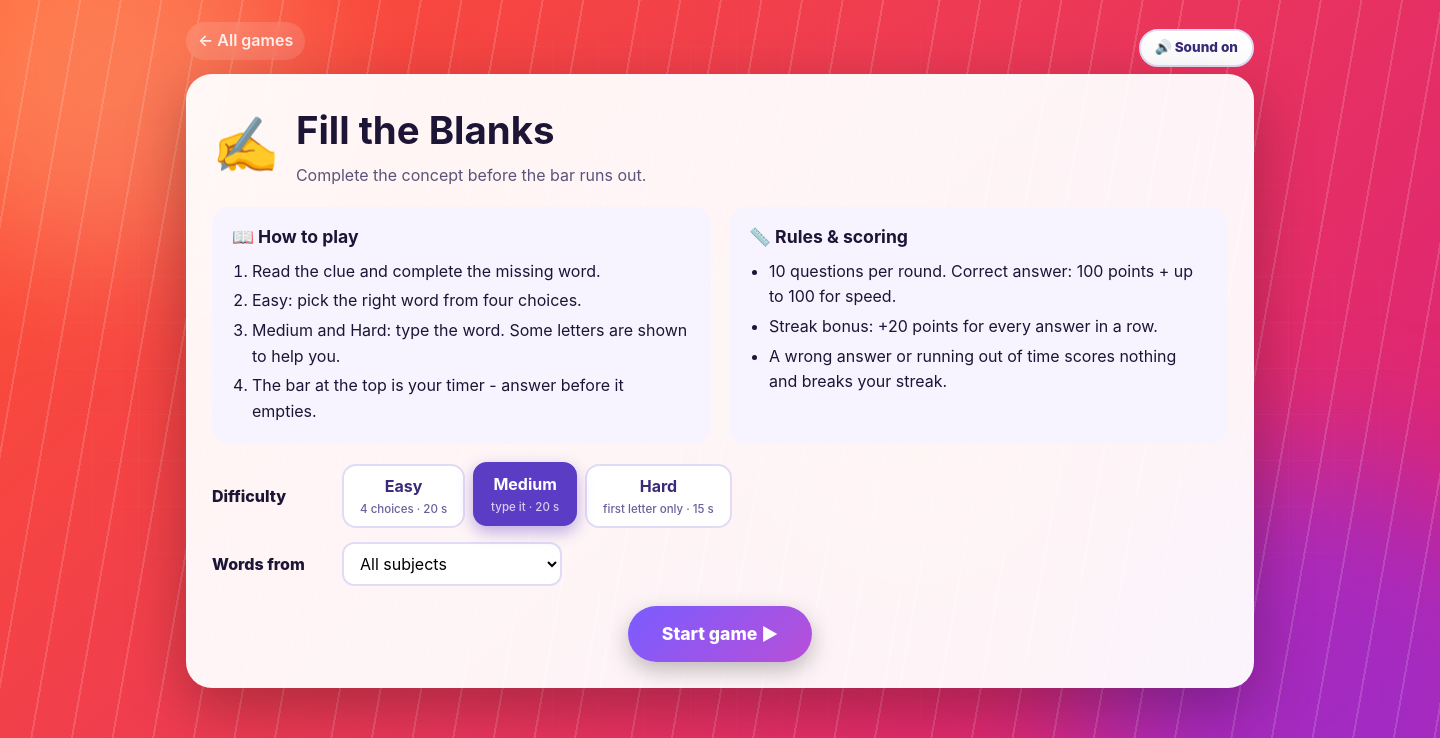
games › fill the blanks (easy): the right choice is accepted, a wrong one is not
The width and height of the screenshot is (1440, 738).
Click the radio button labelled "Easy 4 choices · 20 s" at (404, 496), box x1=342 y1=464 x2=465 y2=528
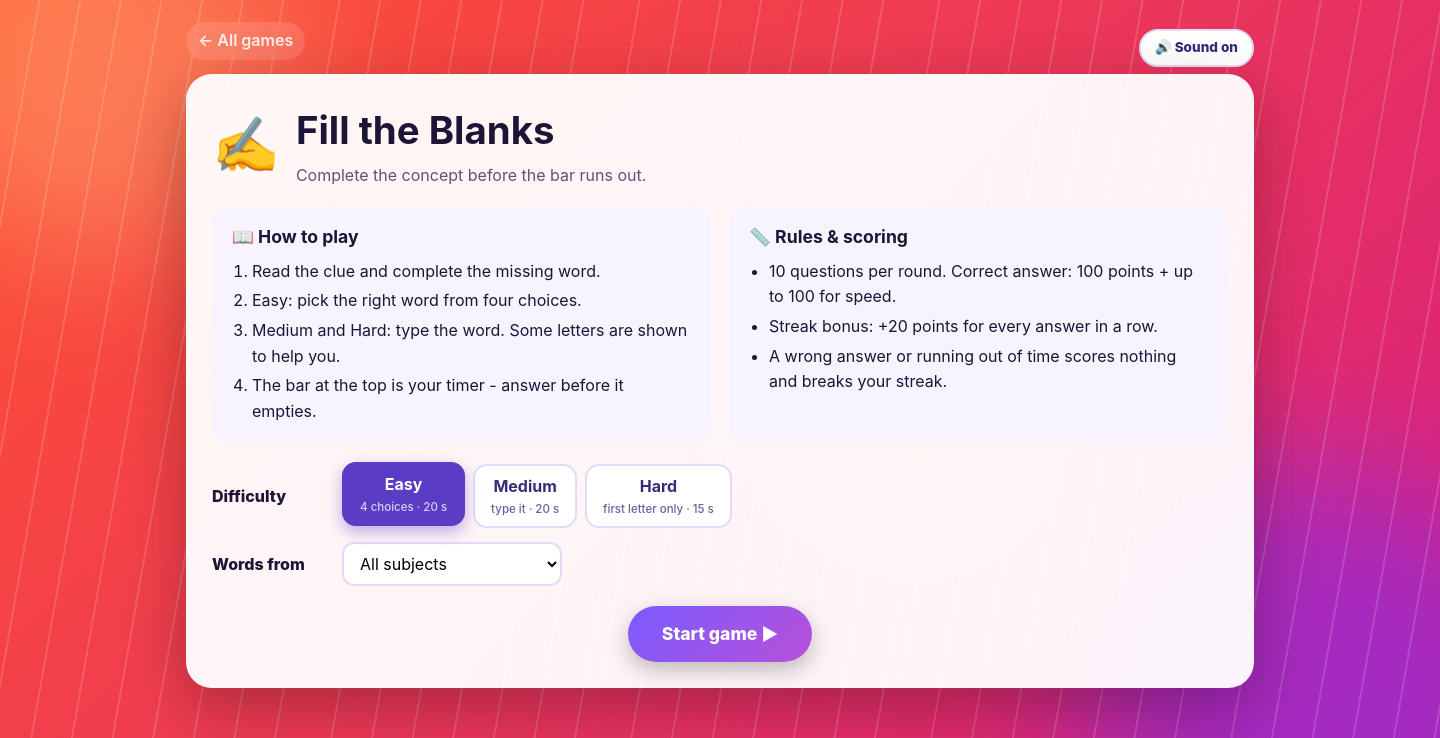
Click the button "Start game ▶" at (720, 634), box x1=628 y1=606 x2=812 y2=662
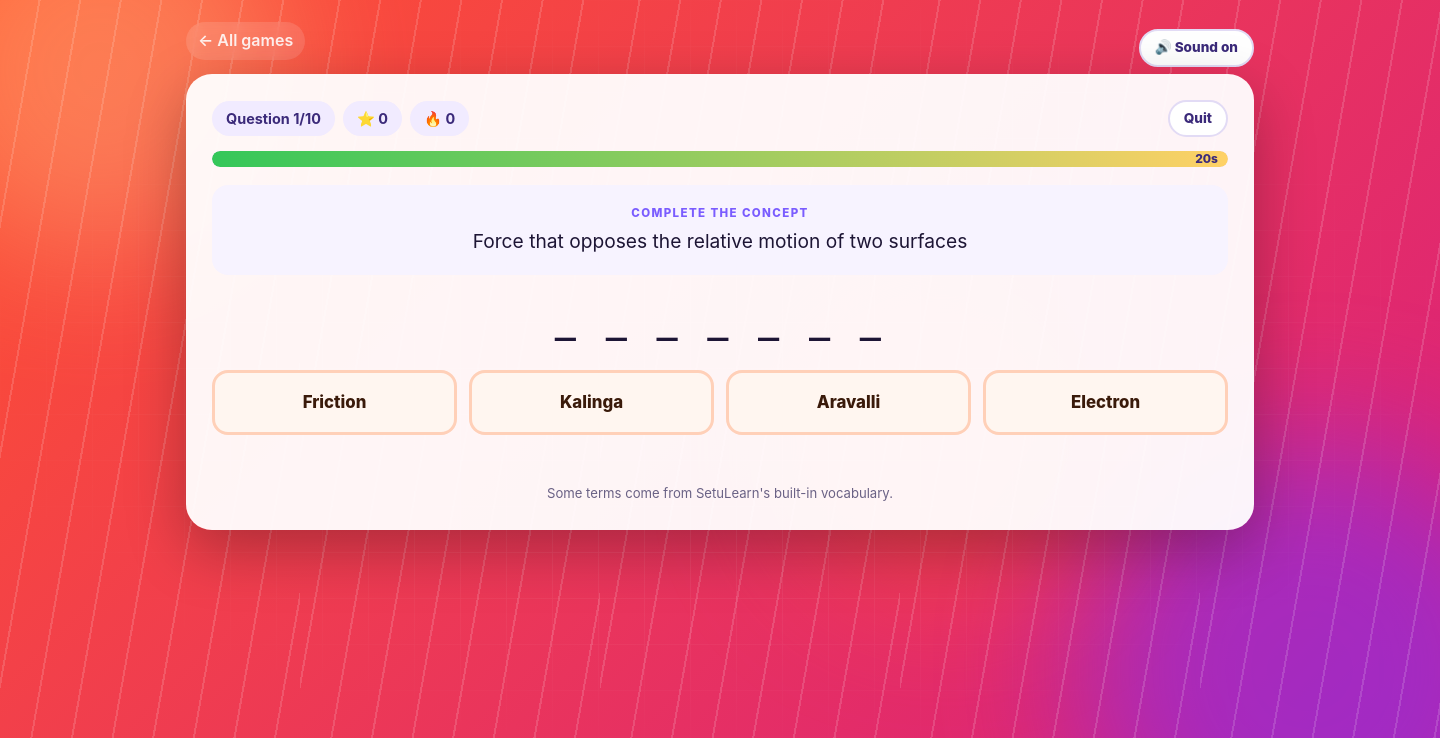
Now the element that starts with "Complete the concept" is shown, box x1=212 y1=185 x2=1228 y2=275
Click the button "Friction" at (334, 402), box x1=212 y1=370 x2=457 y2=435
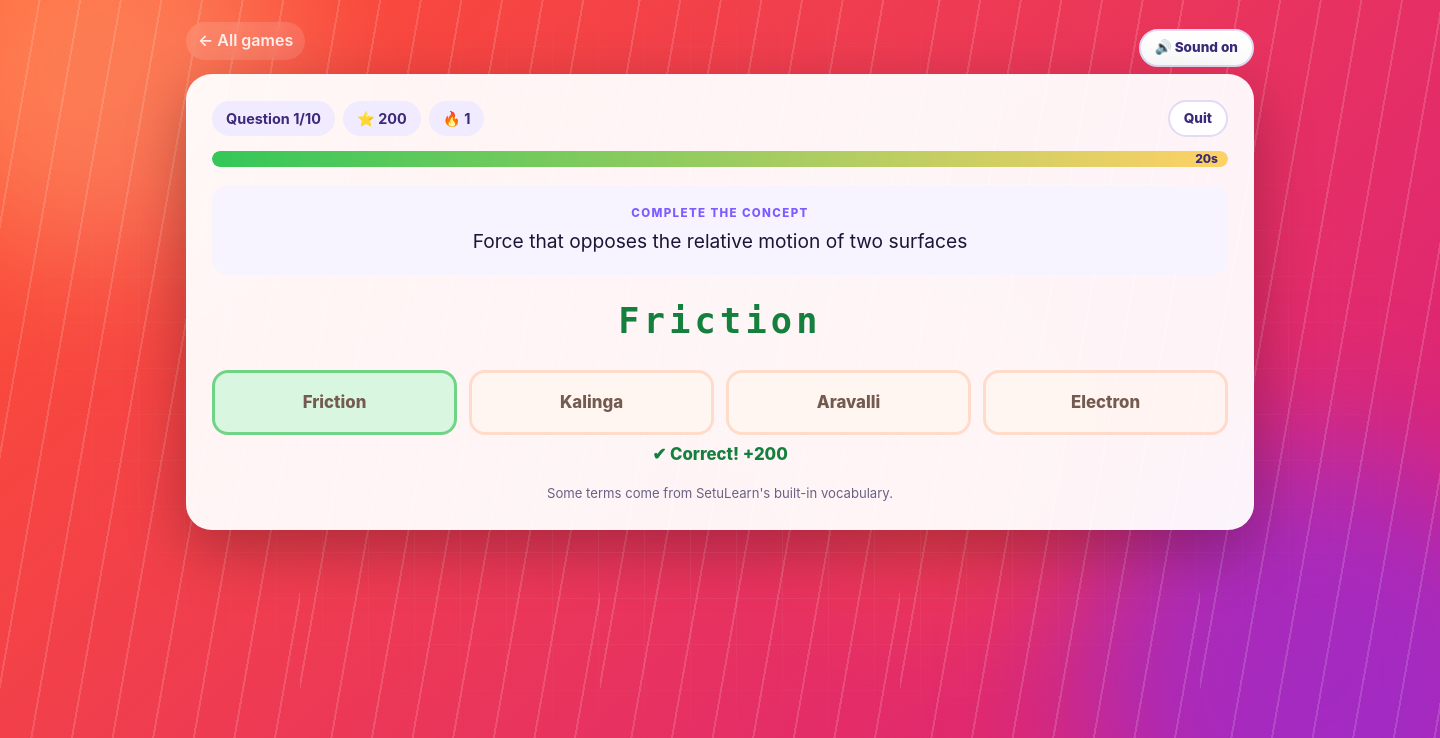
Now the text "✔ Correct! +200" is shown, box x1=652 y1=444 x2=788 y2=464
